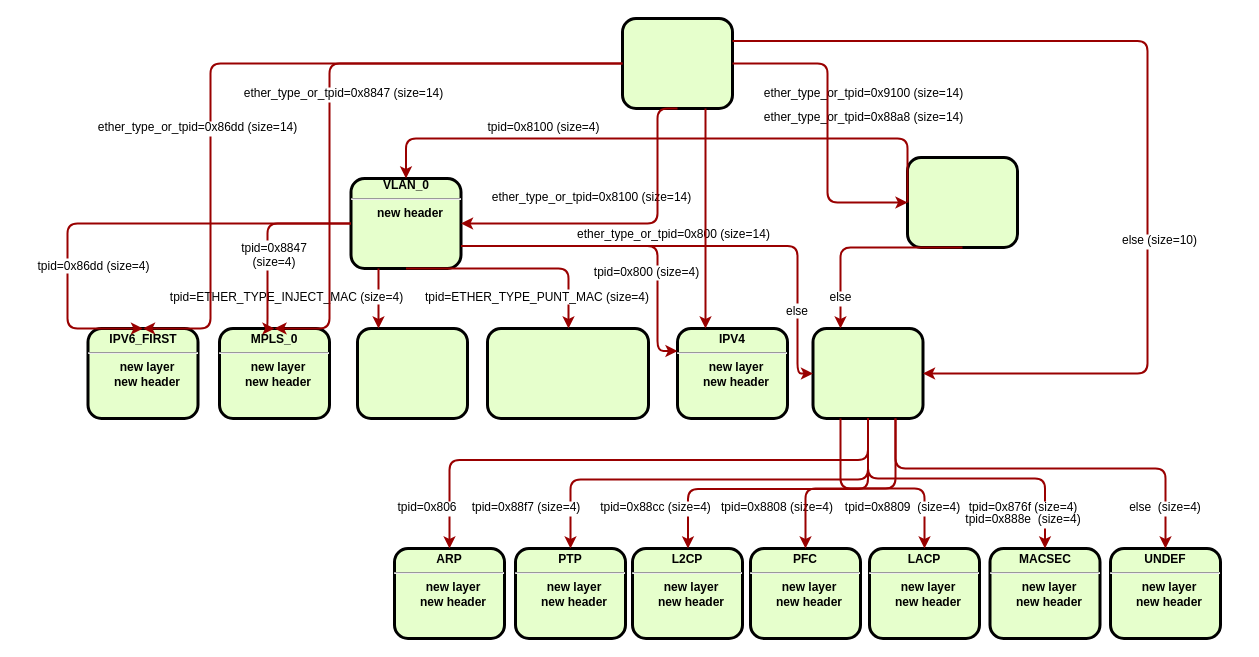
This 1259x657 diagram has some shape labels left out. Here are the shapes that lost their labels. From the top down, the centre of each, then its label:
At (677,63): "ETH new layer new header".
At (962,202): "VLAN_1 new header".
At (412,373): "SYSTEM_INJECT new header".
At (568,373): "SYSTEM_PUNT_PHASE1 new header".
At (867,373): "Ethertype".
